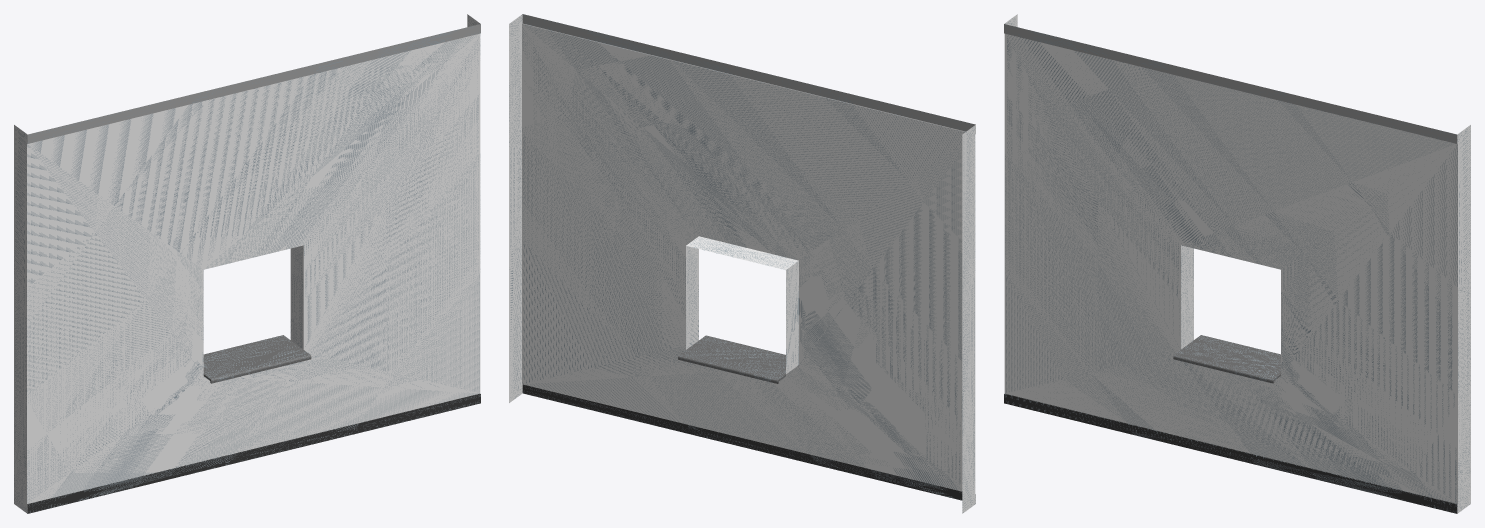
File: BlockWall_Sluise_ds_plinth[500x400x025]_112x110x[100].dae
3 views of the same model, side by side, from view 1: azimuth 30°, elevation 25°; view 2: azimuth 150°, elevation 25°; view 3: azimuth 330°, elevation 25° (orthographic).
Visible parts, largest first — view 1: group_0 (×5); view 2: group_0 (×5); view 3: group_0 (×5).
Part boxes in pixels (x1,y1,x2,y2): group_0 (×5): (14,14,480,513); group_0 (×5): (509,14,975,513); group_0 (×5): (1004,14,1470,513).
Size of the model in its own units: 197 by 21.65 by 157.
